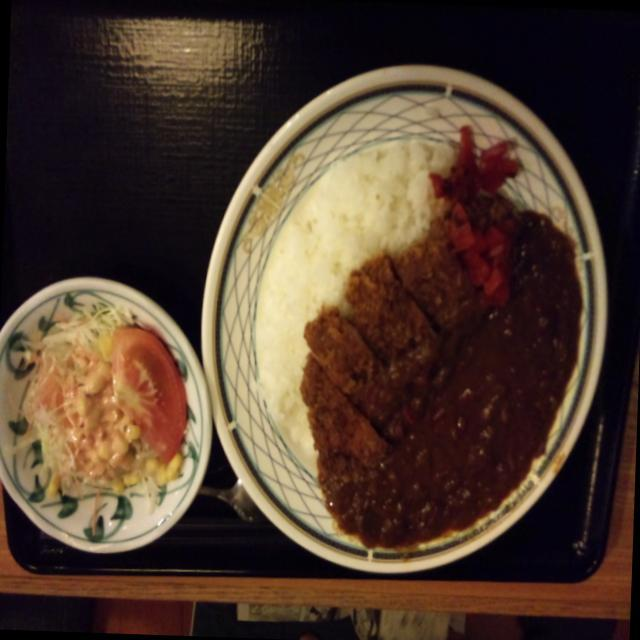Green Salad: (0, 318, 214, 544)
